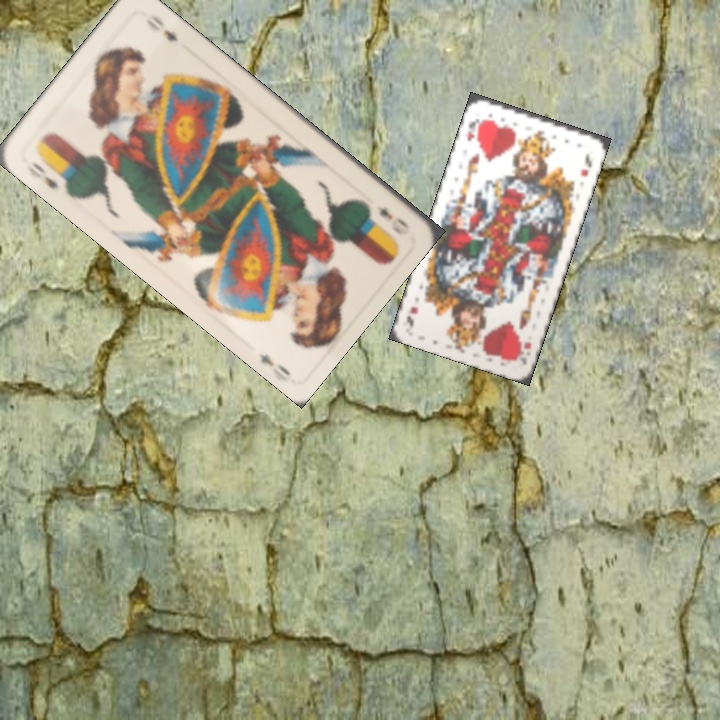EO: (27, 148, 71, 195), (372, 201, 413, 238)
HK: (463, 114, 486, 144), (512, 337, 534, 367)
